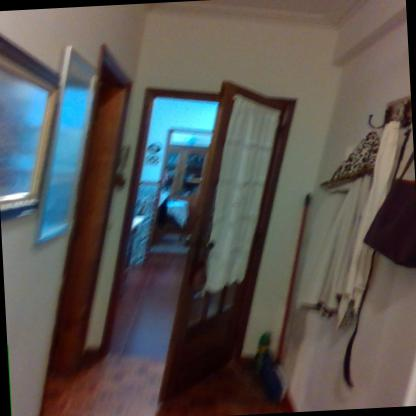semi: (78, 64, 320, 415)
